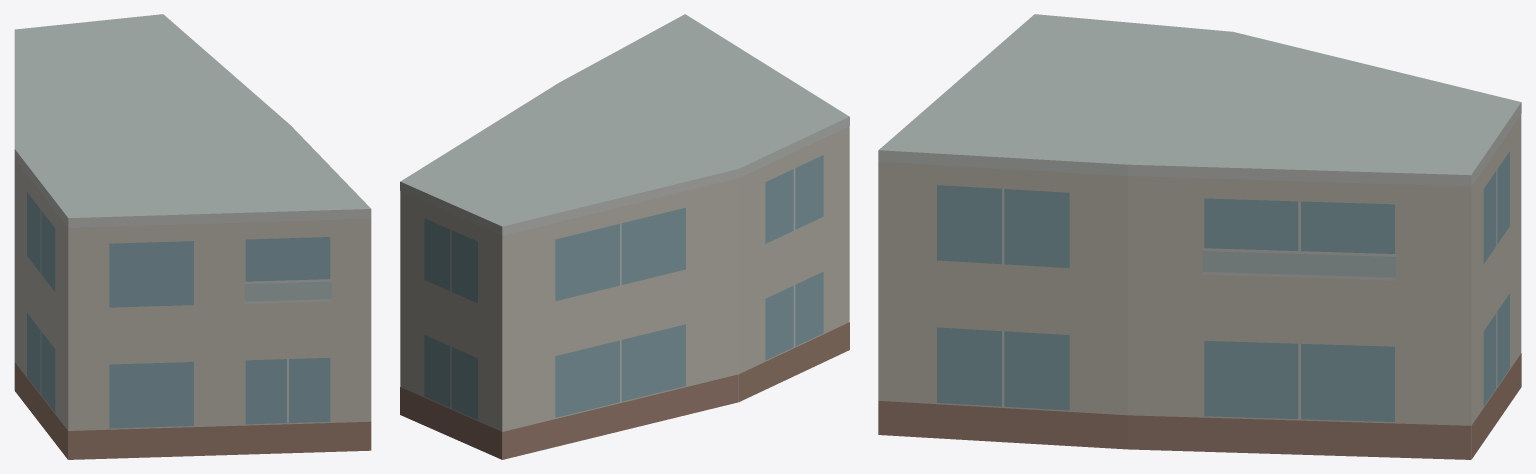
The model's file is survey-upis-32691883.glb.
The picture shows the model from 3 angles, left to right: view 1: azimuth 30°, elevation 25°; view 2: azimuth 150°, elevation 25°; view 3: azimuth 270°, elevation 25°; orthographic projection. The views are drawn at different scales.
Visible parts, largest first — view 1: survey-upis-32691883.tmp; view 2: survey-upis-32691883.tmp; view 3: survey-upis-32691883.tmp.
Part boxes in pixels (x1=…): survey-upis-32691883.tmp: x1=14, y1=14, x2=371, y2=459; survey-upis-32691883.tmp: x1=400, y1=14, x2=849, y2=459; survey-upis-32691883.tmp: x1=878, y1=14, x2=1521, y2=459.
Size of the model in its own units: 7.42 by 6.1 by 12.5.
